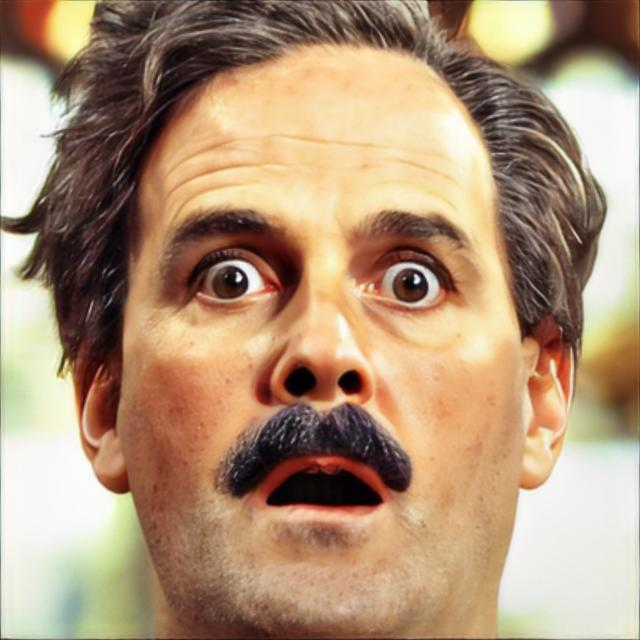fear: (115, 37, 526, 639)
